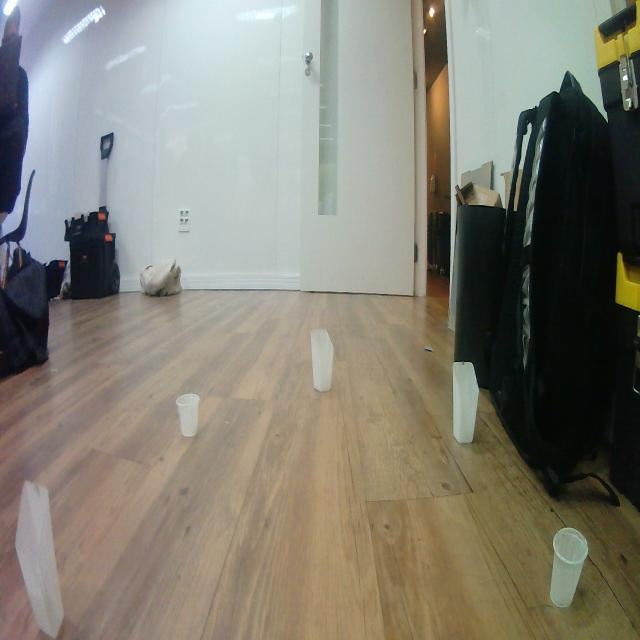erva_daninha: (13, 479, 65, 639), (451, 360, 479, 445), (310, 327, 334, 393)
planta: (548, 526, 590, 609), (176, 392, 200, 438)
